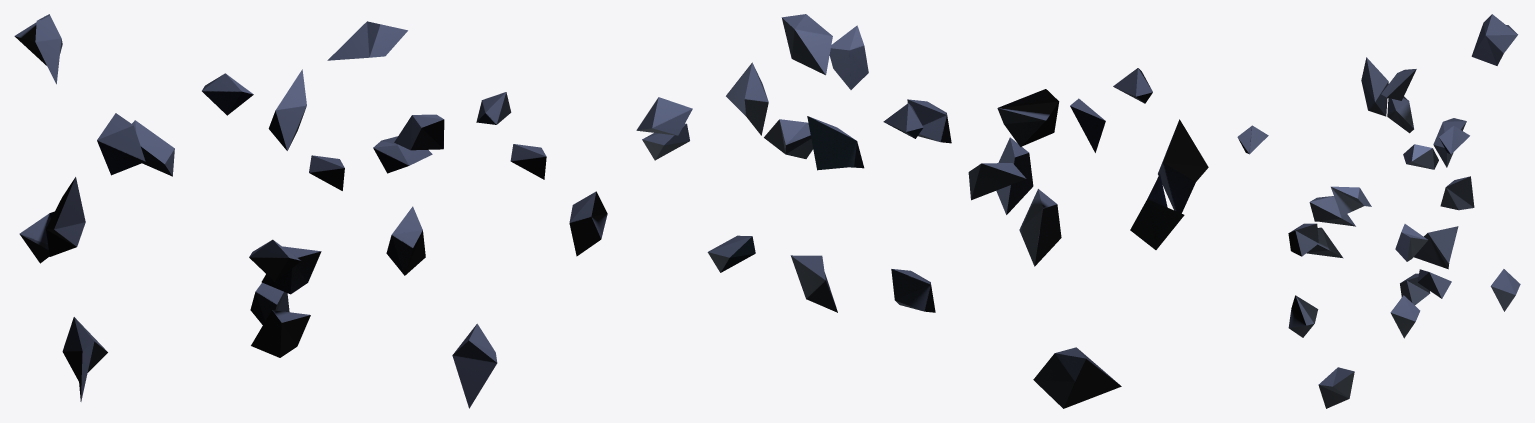
The model's file is AsteroidCloud.glb.
3 views of the same model, side by side, from view 1: azimuth 30°, elevation 25°; view 2: azimuth 150°, elevation 25°; view 3: azimuth 270°, elevation 25° (orthographic). The views are drawn at different scales.
Parts seen in each view (by area): view 1: AsteroidCloud; view 2: AsteroidCloud; view 3: AsteroidCloud.
Boxes of the visible parts, x1,y1,x2,y2 form: AsteroidCloud: (14, 14, 607, 408); AsteroidCloud: (636, 14, 1208, 408); AsteroidCloud: (1237, 14, 1520, 408).
Size of the model in its own units: 4.5 by 3.11 by 2.84.
1 material, 1 textured.
